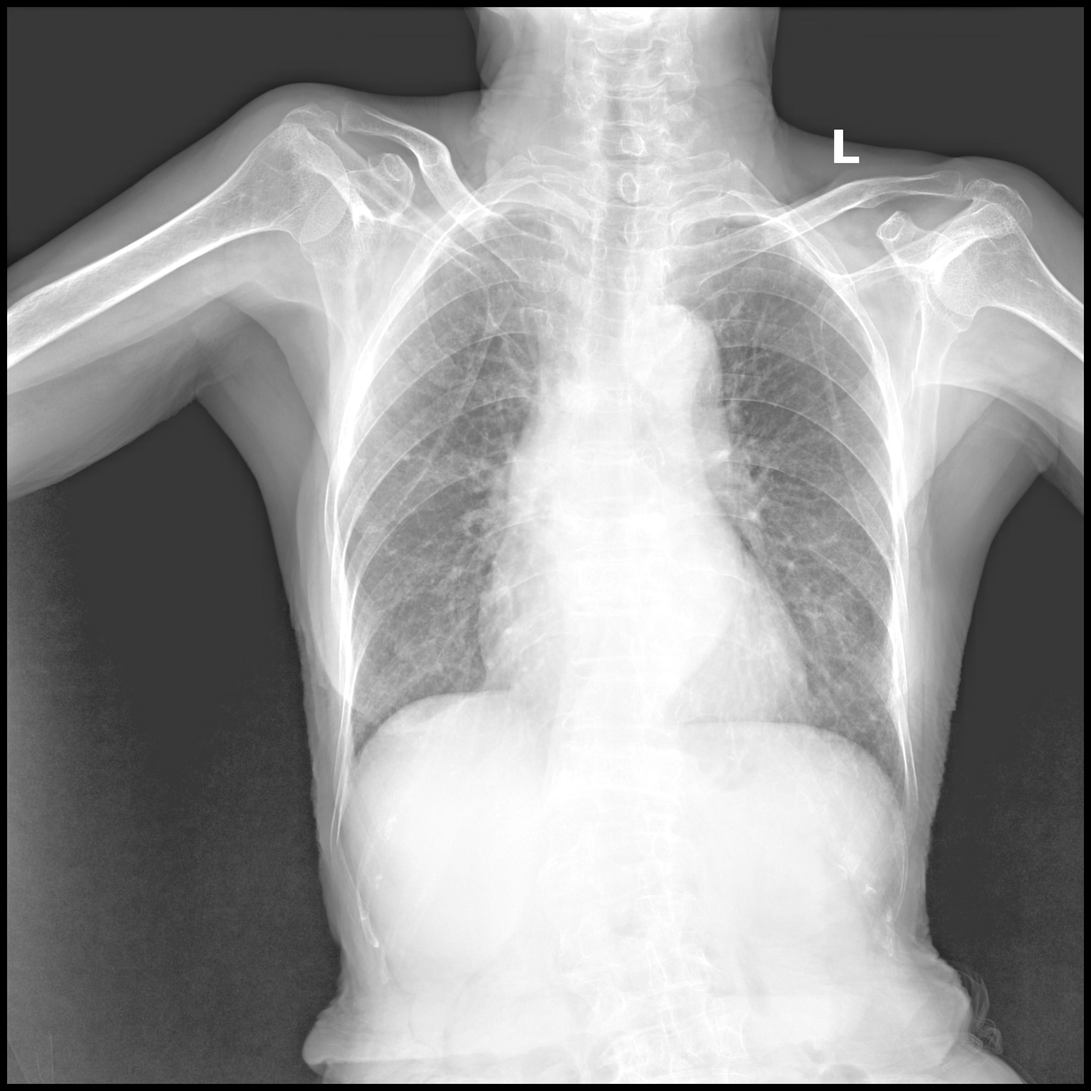Aortic enlargement: (623, 309, 723, 413)
Cardiomegaly: (476, 593, 805, 722)
Pleural thickening: (709, 201, 809, 244), (446, 196, 567, 229)
